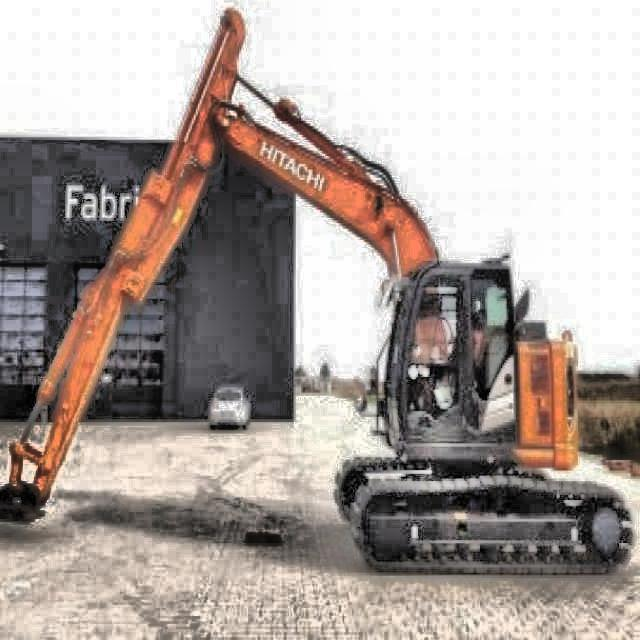bull_dozer/loader/grader: (0, 7, 636, 578)
person: (470, 296, 488, 361)
